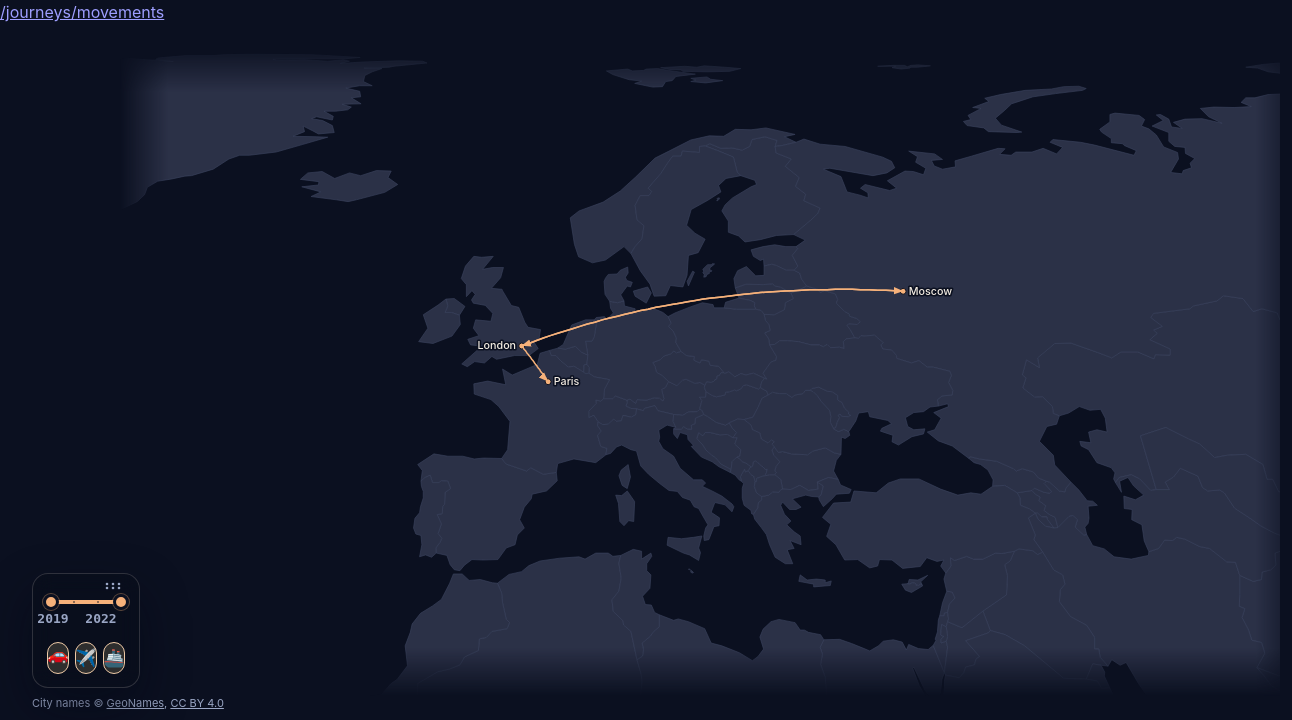
Test: MovementsMapView › снятый вид транспорта убирает его из запроса, а без транспорта карта пуста и запроса нет
Click the checkbox named "Water" at (114, 658), box top-left (103, 642), bottom-right (125, 674)
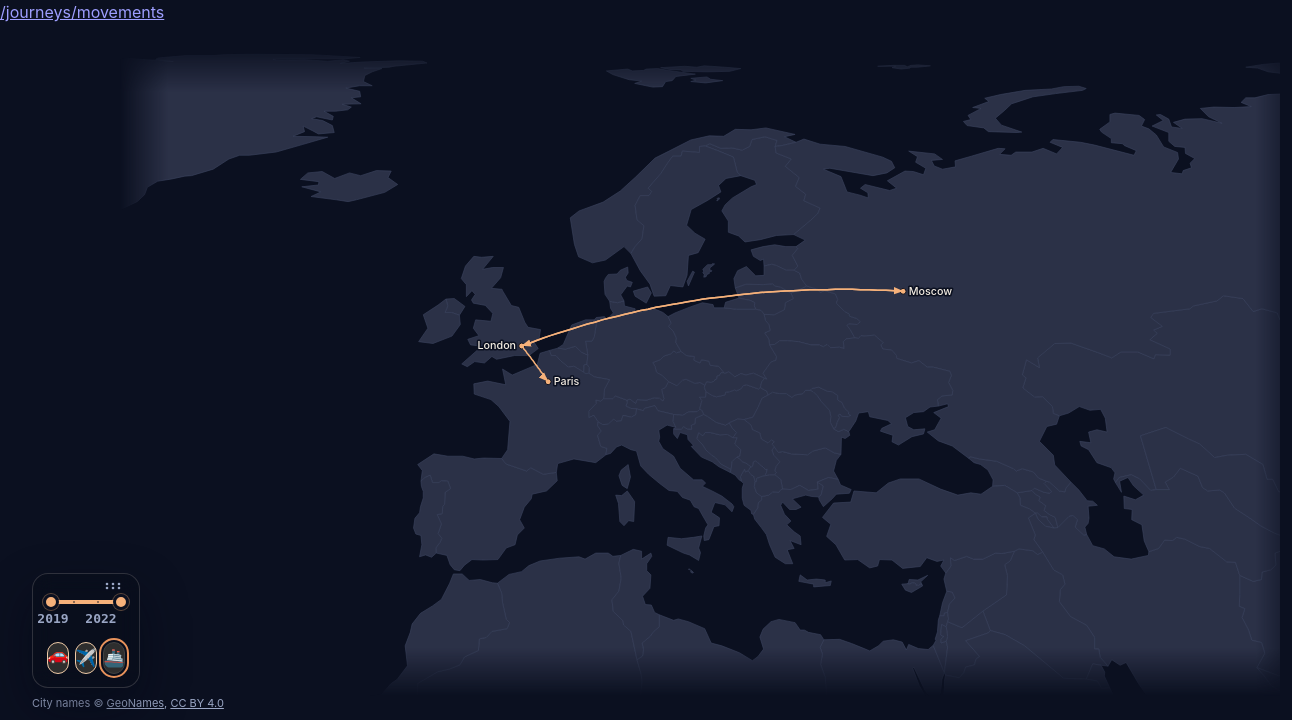
Click the checkbox named "Air" at (86, 658), box top-left (75, 642), bottom-right (97, 674)
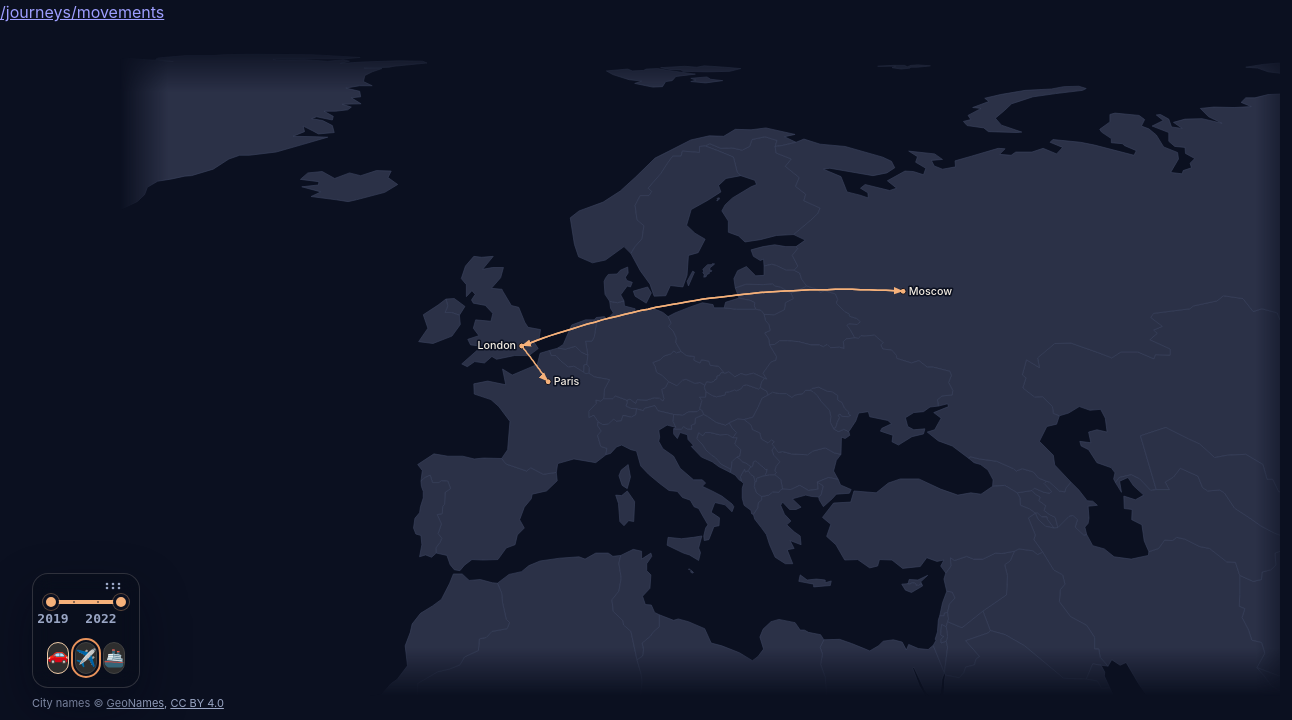
Click the checkbox named "Land" at (58, 658), box top-left (47, 642), bottom-right (69, 674)
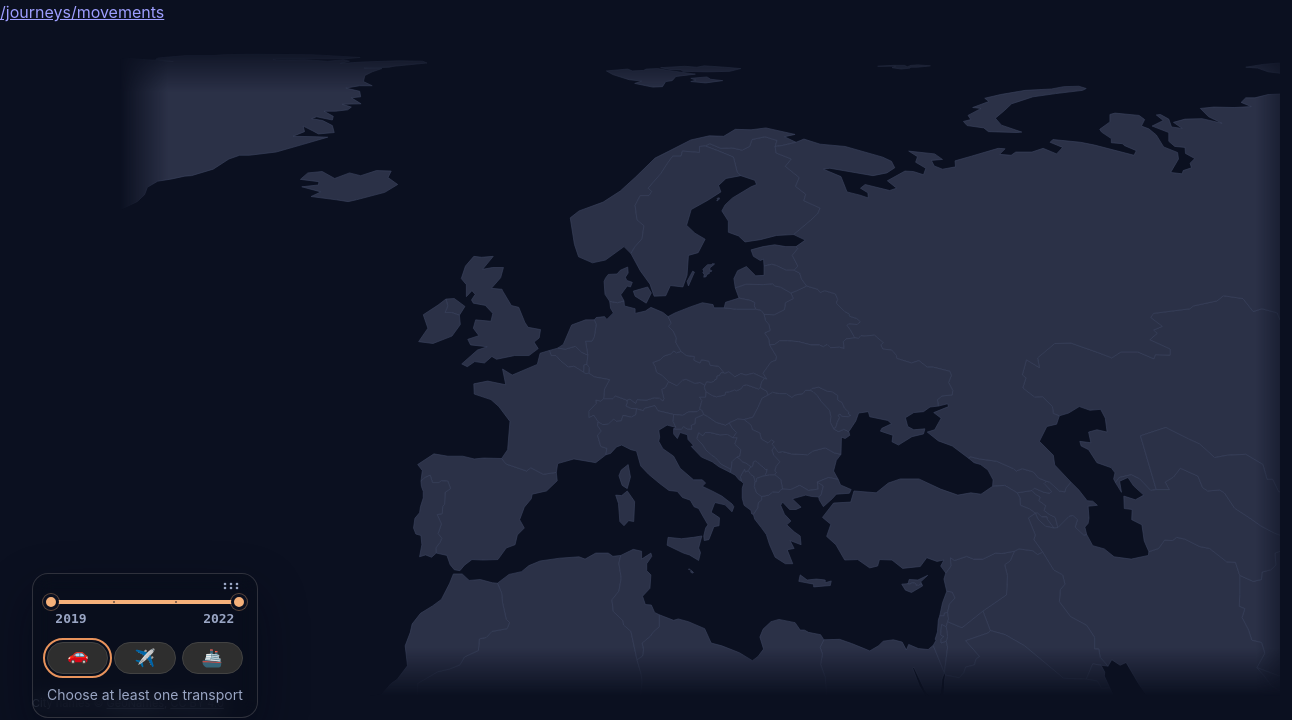
Result: the text "Choose at least one transport" is shown at top-left (47, 685), bottom-right (243, 705)
